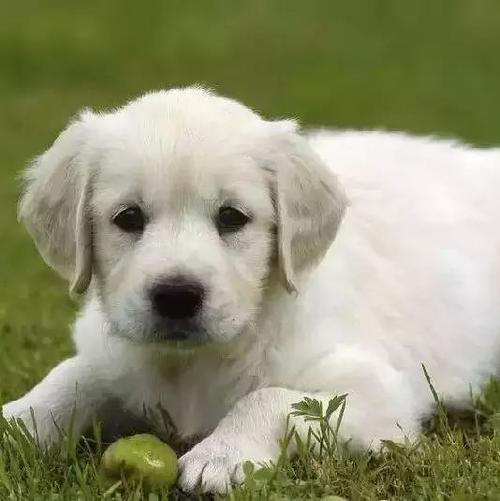dog: (27, 80, 342, 365)
